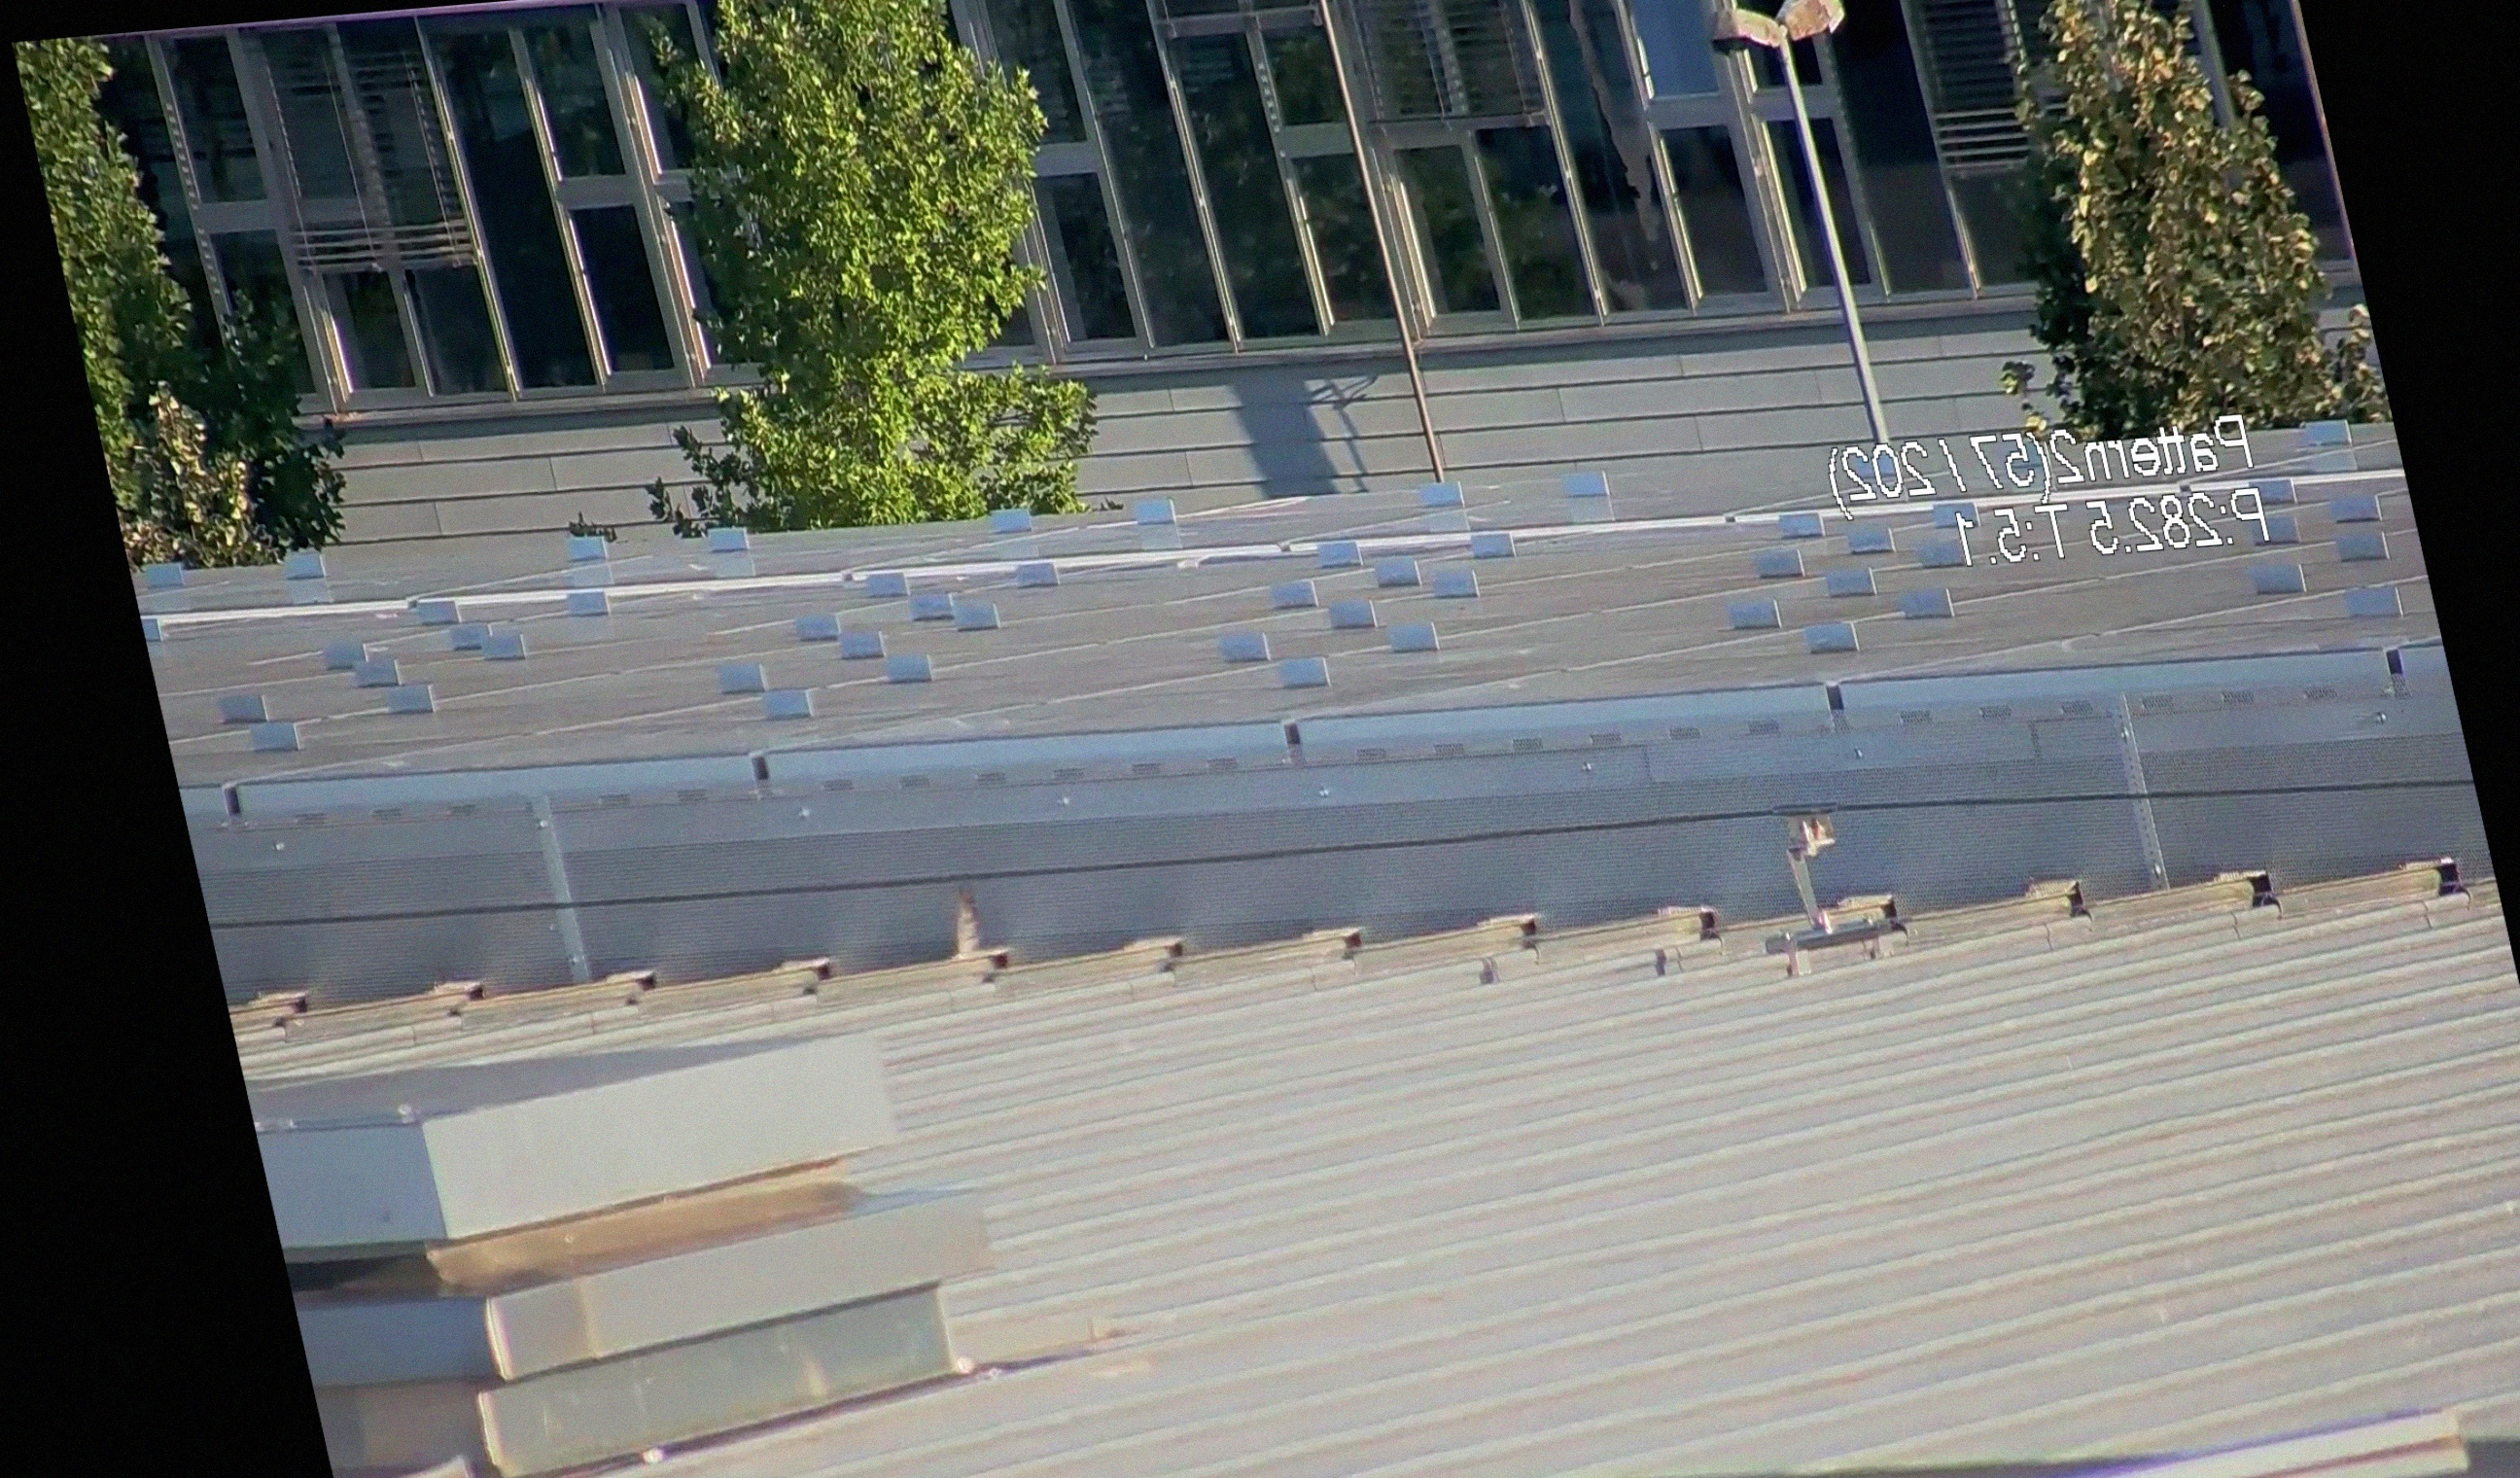Other: (923, 867, 1013, 994)
